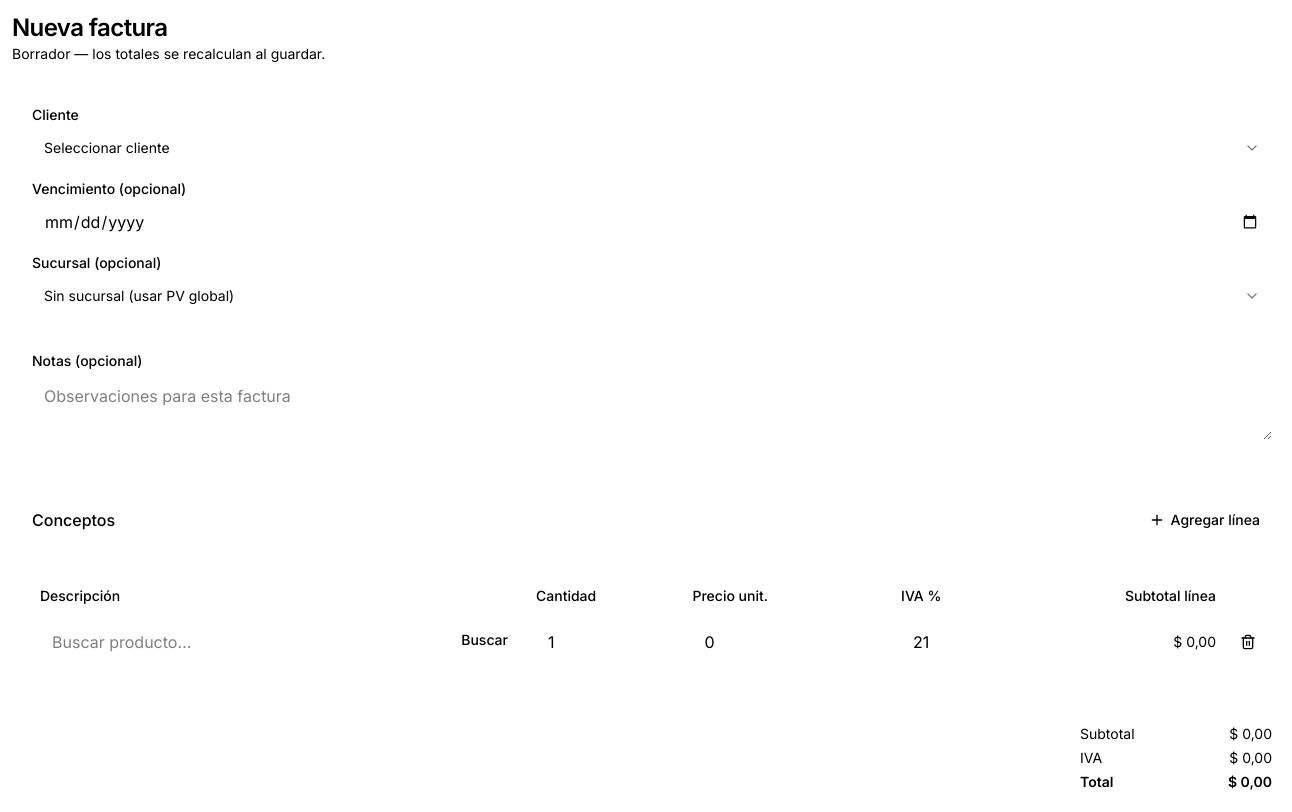
Test: InvoiceForm — buscador de productos con autocompletado de precio › elegir un resultado autocompleta description y unitPrice en la línea
This screenshot has width=1292, height=812.
Type "collar" into the field labelled "Buscar producto". click: (243, 642)
box: [40, 624, 445, 660]
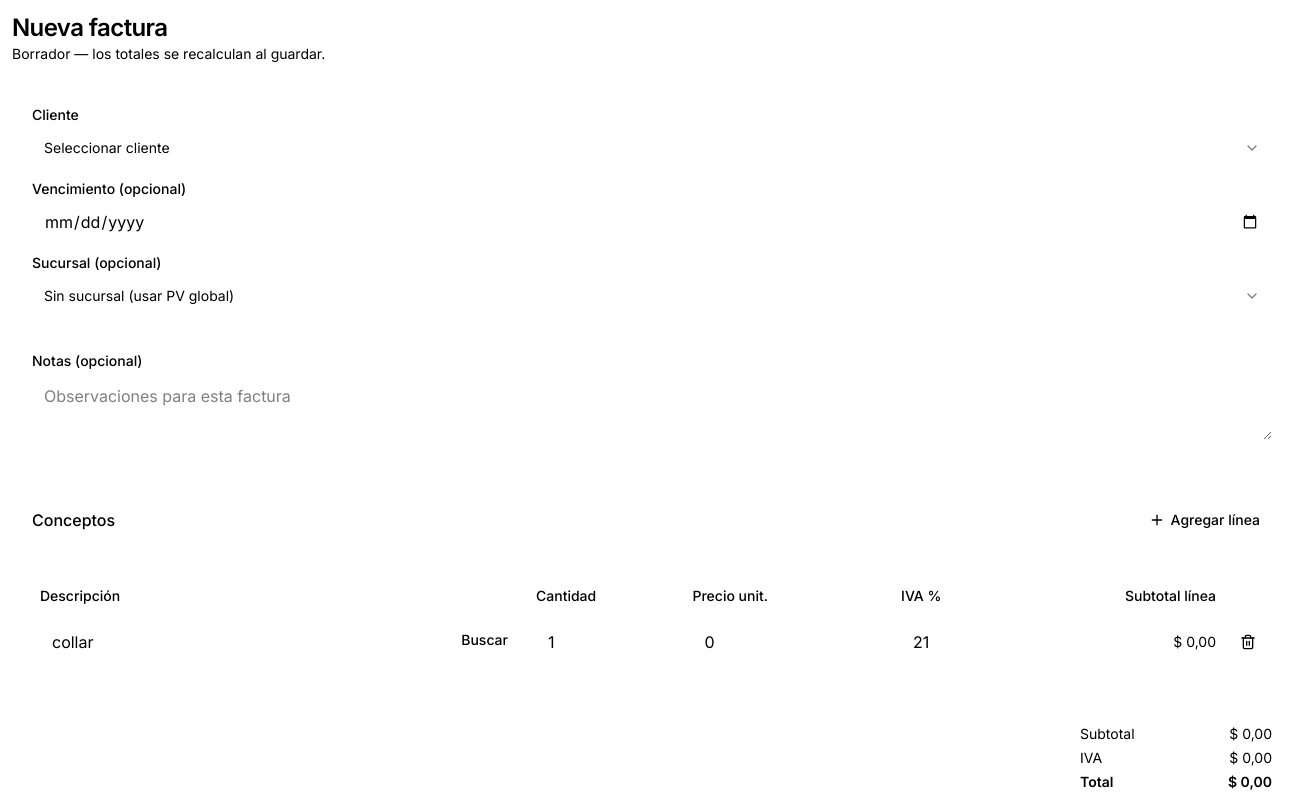
Press Enter in the field named "Buscar producto", box [40, 624, 445, 660]
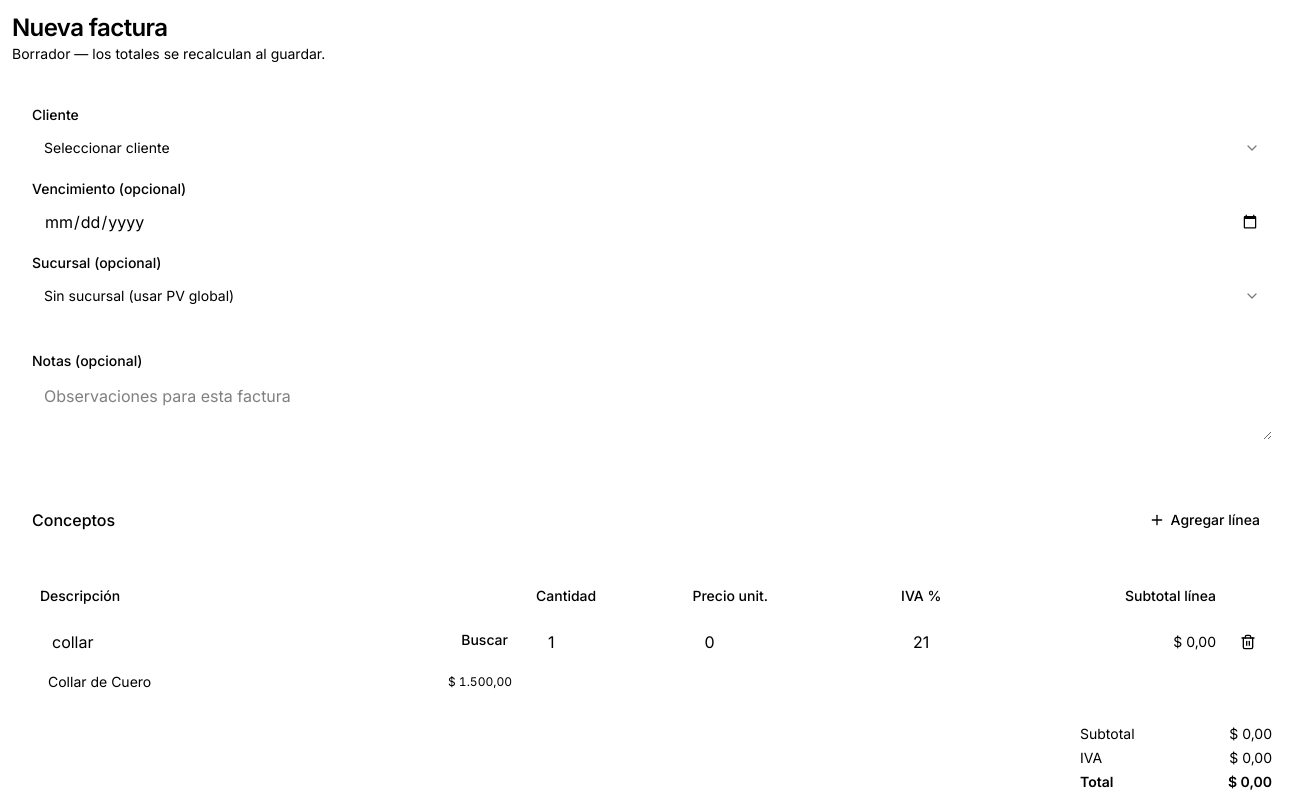
Check: the text "Collar de Cuero" is shown
Click the text "Collar de Cuero". click: (100, 682)
box: [48, 672, 151, 692]
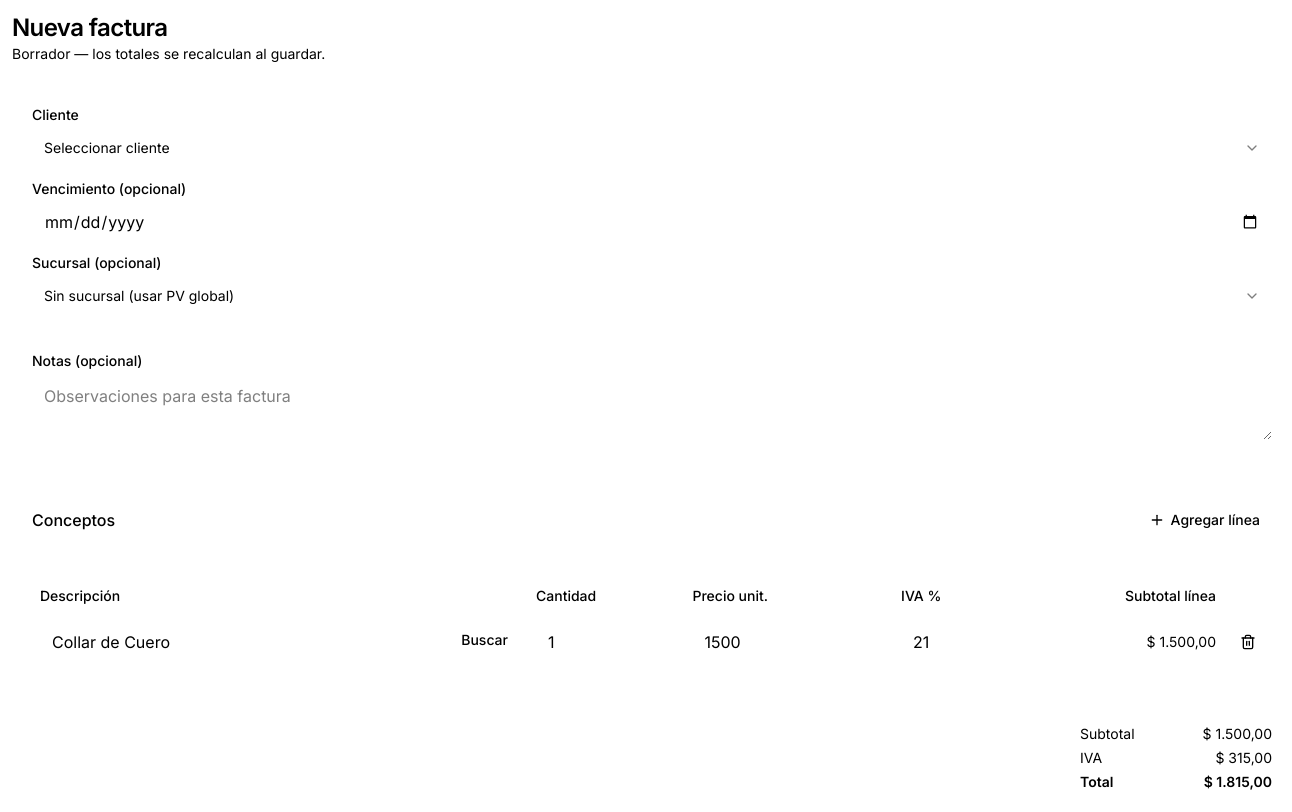
Check: the field named "Buscar producto" holds "Collar de Cuero", box [40, 624, 445, 660]
Check: the number field with test id "unit-price-0" holds "1500", box [692, 624, 804, 660]
